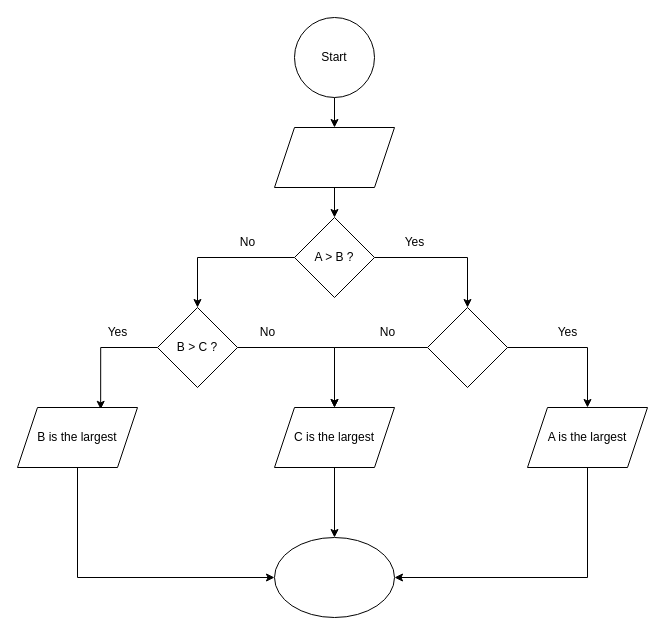
This 665x635 diagram has some shape labels left out. Each missing label, with the centre of its shape:
"A ; B ; C" goes at point (334, 157).
"A > C ?" goes at point (467, 347).
"End" goes at point (334, 577).
